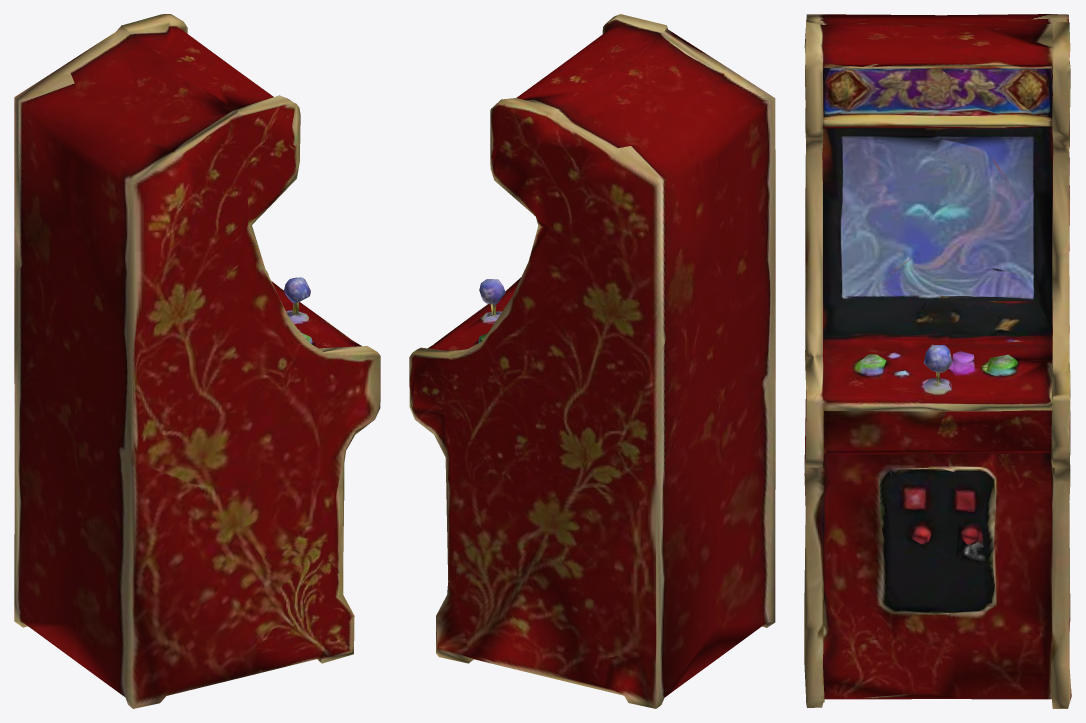
Rendered from au_furn_arcade_imperial.glb.
3 views of the same model, side by side, from view 1: azimuth 30°, elevation 25°; view 2: azimuth 150°, elevation 25°; view 3: azimuth 270°, elevation 25° (orthographic). The views are drawn at different scales.
Visible parts, largest first — view 1: tripo_node_4fc25e4e-3000-476e-89af-bd680fc62745; view 2: tripo_node_4fc25e4e-3000-476e-89af-bd680fc62745; view 3: tripo_node_4fc25e4e-3000-476e-89af-bd680fc62745.
Part boxes in pixels (bbox=[...]): tripo_node_4fc25e4e-3000-476e-89af-bd680fc62745: bbox=[14, 14, 380, 708]; tripo_node_4fc25e4e-3000-476e-89af-bd680fc62745: bbox=[409, 14, 775, 708]; tripo_node_4fc25e4e-3000-476e-89af-bd680fc62745: bbox=[804, 14, 1071, 708].
Size of the model in its own units: 0.4433 by 0.9777 by 0.3766.
Materials: 1 (1 with a texture image).
